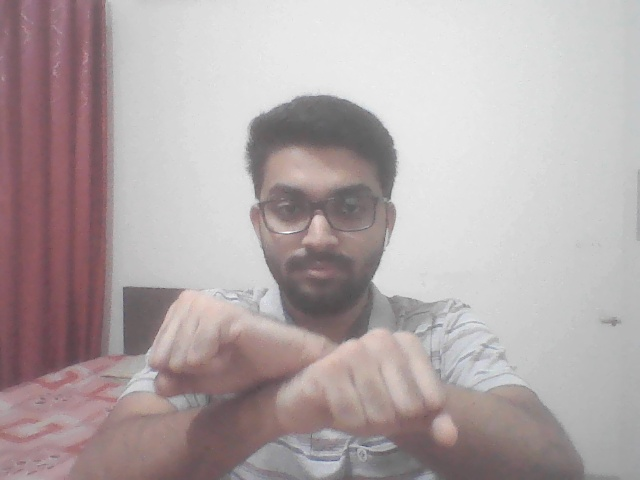work: (136, 267, 469, 457)
